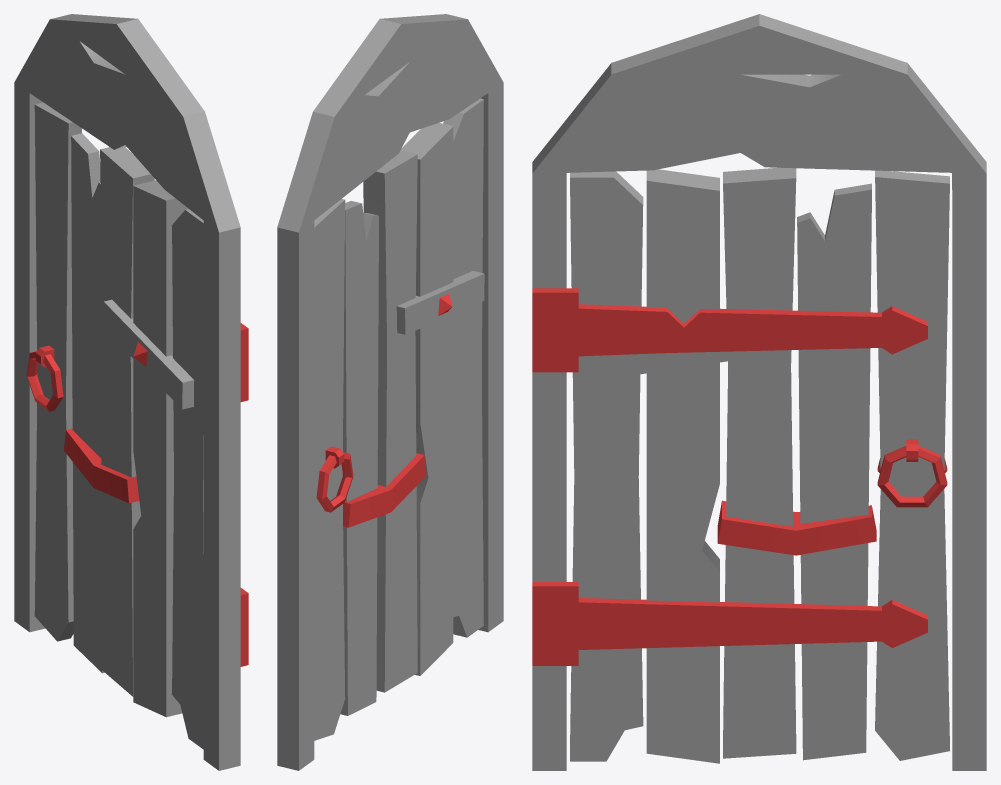
The model's file is Door V3.fbx.
3 views of the same model, side by side, from view 1: azimuth 30°, elevation 25°; view 2: azimuth 150°, elevation 25°; view 3: azimuth 270°, elevation 25° (orthographic). The views are drawn at different scales.
Parts seen in each view (by area): view 1: pCube60, pCube58; view 2: pCube60, pCube58; view 3: pCube60, pCube58.
Boxes of the visible parts, x1=… form: pCube60: x1=26, y1=102, x2=203, y2=749; pCube58: x1=14, y1=14, x2=248, y2=770; pCube60: x1=314, y1=98, x2=484, y2=740; pCube58: x1=277, y1=14, x2=503, y2=770; pCube60: x1=570, y1=167, x2=949, y2=763; pCube58: x1=532, y1=14, x2=986, y2=770.
Size of the model in its own units: 0.1813 by 2.43 by 1.34.
